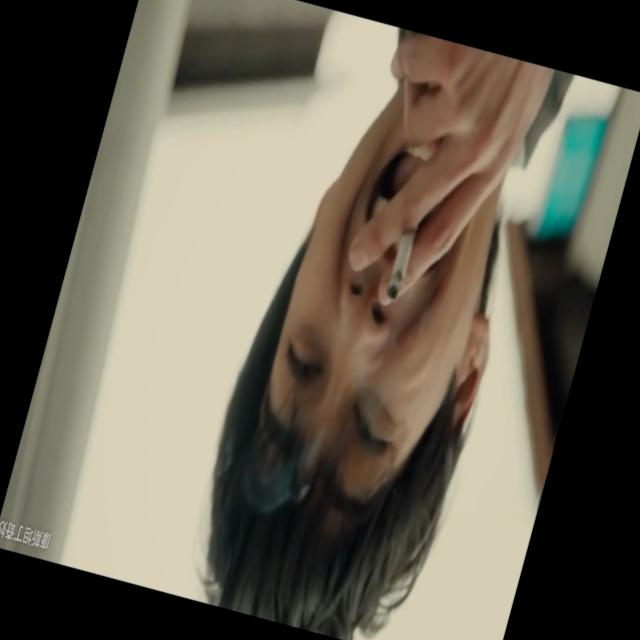smoke: (371, 218, 427, 302)
